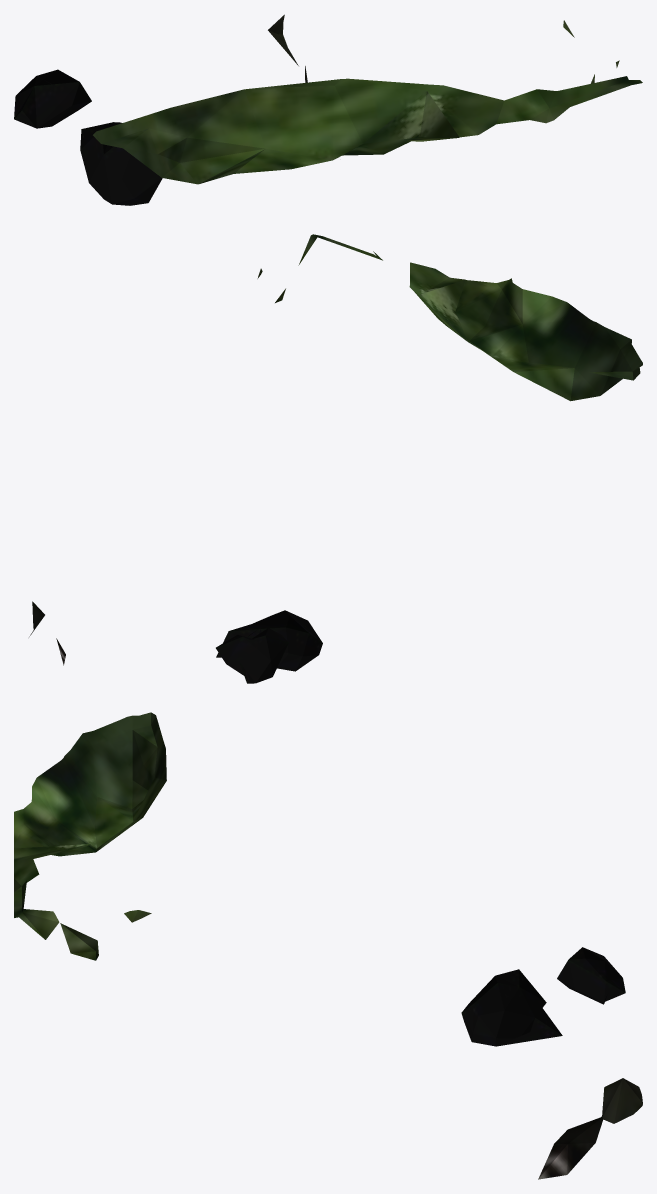
3 renders of one model, top to bottom at view 1: azimuth 30°, elevation 25°; view 2: azimuth 150°, elevation 25°; view 3: azimuth 270°, elevation 25°, orthographic. The views are drawn at different scales.
Size of the model in its own units: 0.565 by 0.3489 by 0.7471.
1 material, 1 textured.
